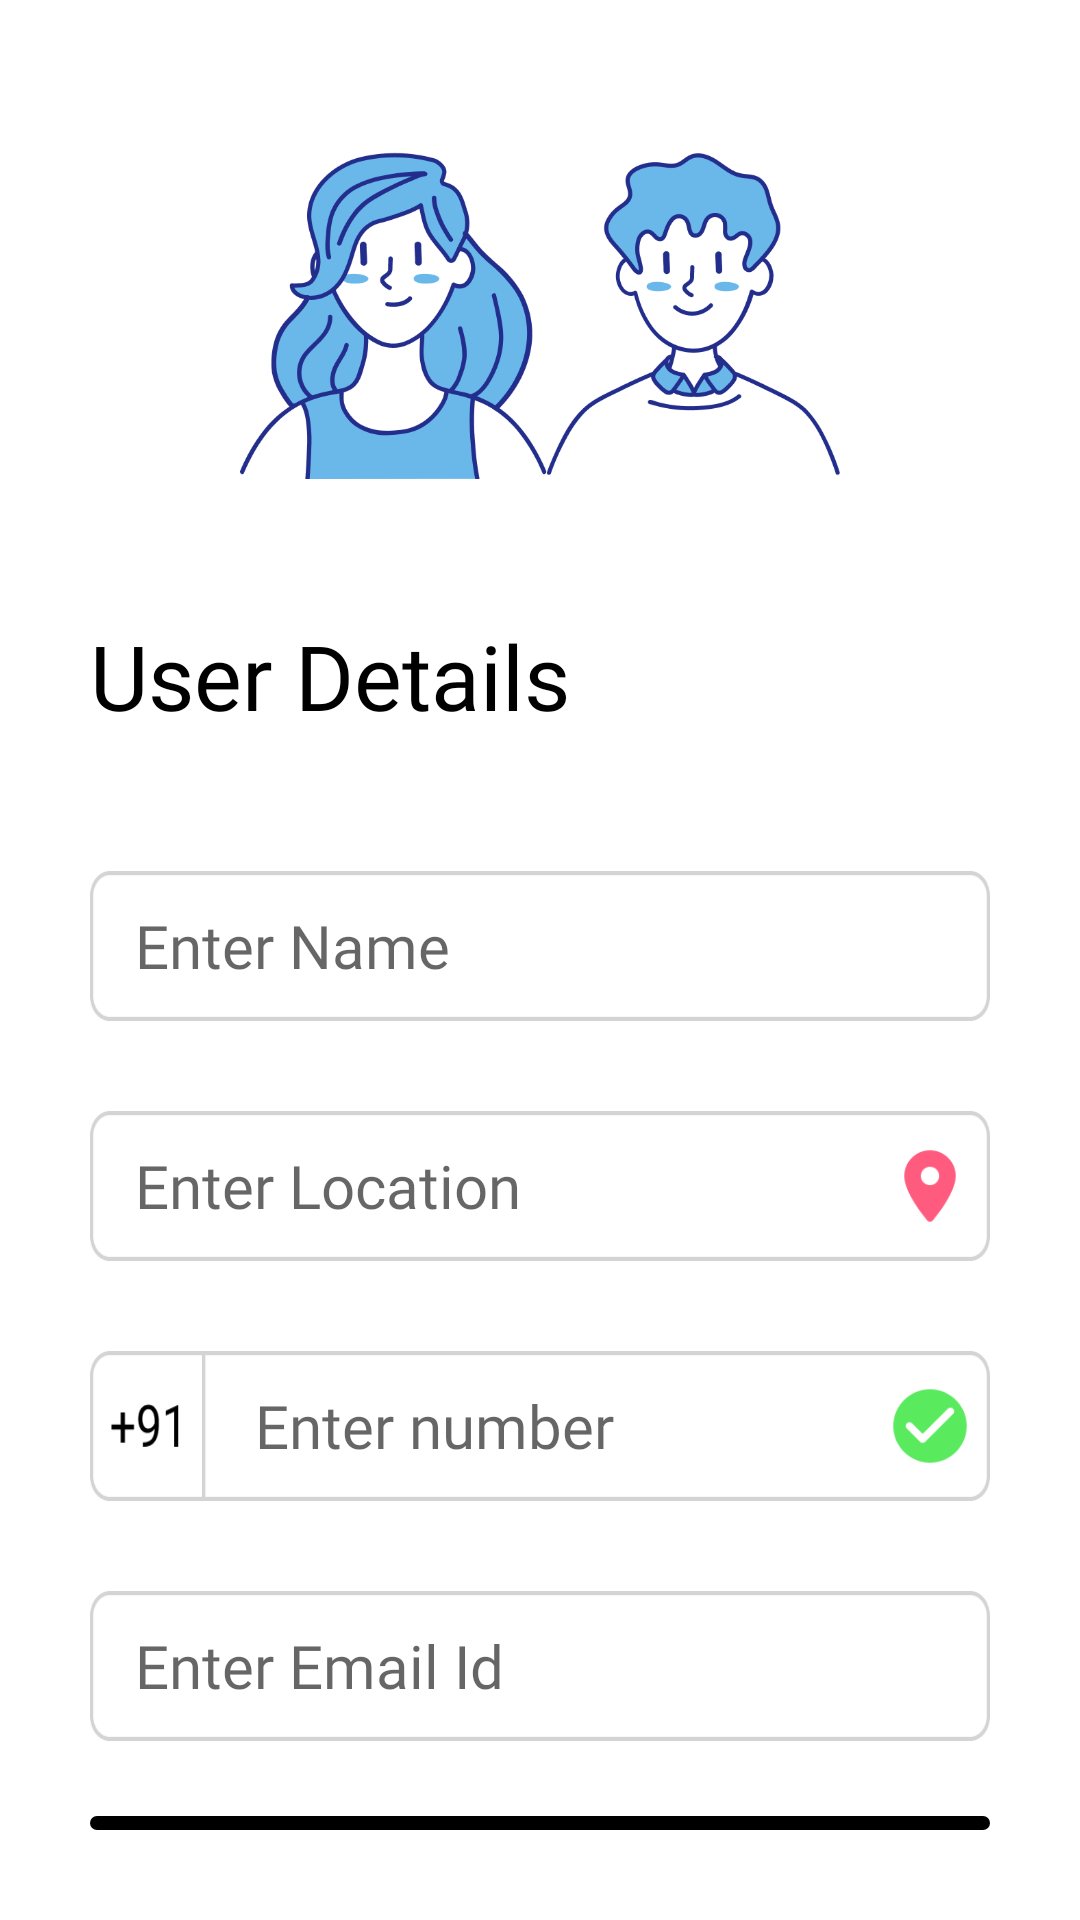

Screen size 1080 × 1920. Icon name, then its center in pixels as (x,y):
check circle: (930,1426)
locationiconimg: (930,1186)
